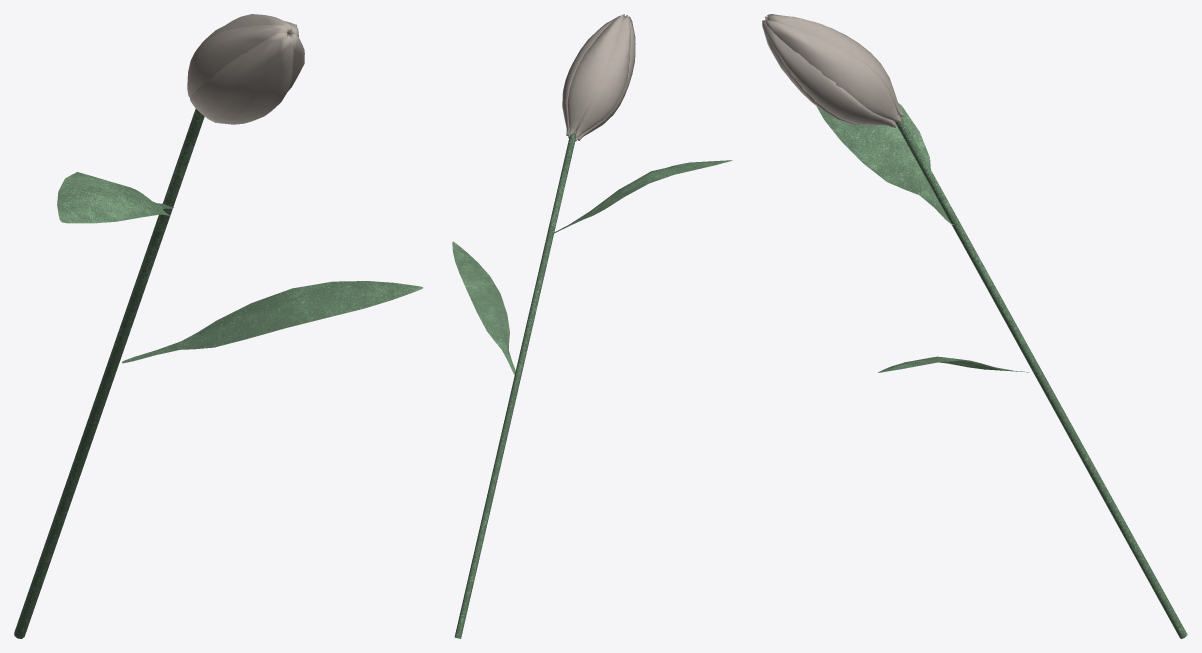
Rendered from Yuri_Tsubomi.fbx.
3 views of the same model, side by side, from view 1: azimuth 30°, elevation 25°; view 2: azimuth 150°, elevation 25°; view 3: azimuth 270°, elevation 25° (orthographic). The views are drawn at different scales.
Parts seen in each view (by area): view 1: Yuri, Yuri.006, Yuri.004, Yuri.001, Yuri.002; view 2: Yuri, Yuri.002, Yuri.004, Yuri.005, Yuri.006; view 3: Yuri, Yuri.005, Yuri.003, Yuri.002.
Part boxes in pixels (x1,y1,x2,y2): Yuri: (14, 108, 423, 638); Yuri.006: (190, 32, 287, 123); Yuri.004: (187, 24, 288, 97); Yuri.001: (225, 35, 293, 124); Yuri.002: (196, 14, 292, 49); Yuri: (452, 133, 732, 638); Yuri.002: (567, 14, 624, 135); Yuri.004: (575, 15, 630, 137); Yuri.005: (562, 15, 620, 135); Yuri.006: (578, 16, 635, 140); Yuri: (816, 103, 1187, 638); Yuri.005: (765, 19, 901, 122); Yuri.003: (763, 21, 896, 127); Yuri.002: (767, 15, 904, 116).
Size of the model in its own units: 670 by 1274 by 788.
